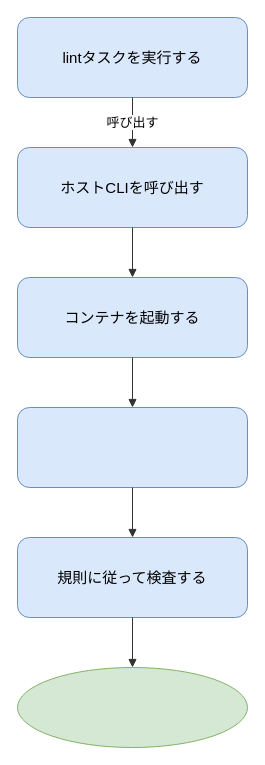
The diagram is 265 pixels wide and 765 high, and some of its shapes have lost their labels. Each missing label, with the box of its shape:
入力TeXを整形する: (16, 406, 248, 488)
終了コードを返す: (16, 666, 248, 748)
